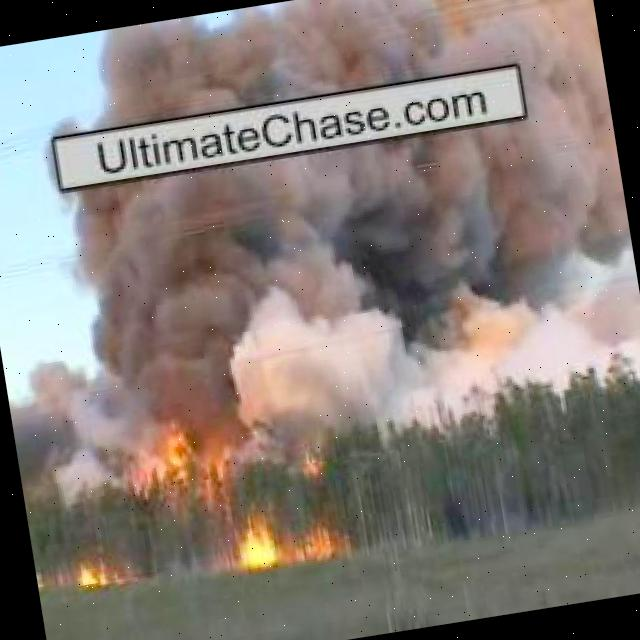fire: (150, 418, 210, 486), (237, 512, 286, 571), (306, 518, 348, 564), (75, 566, 114, 588)
